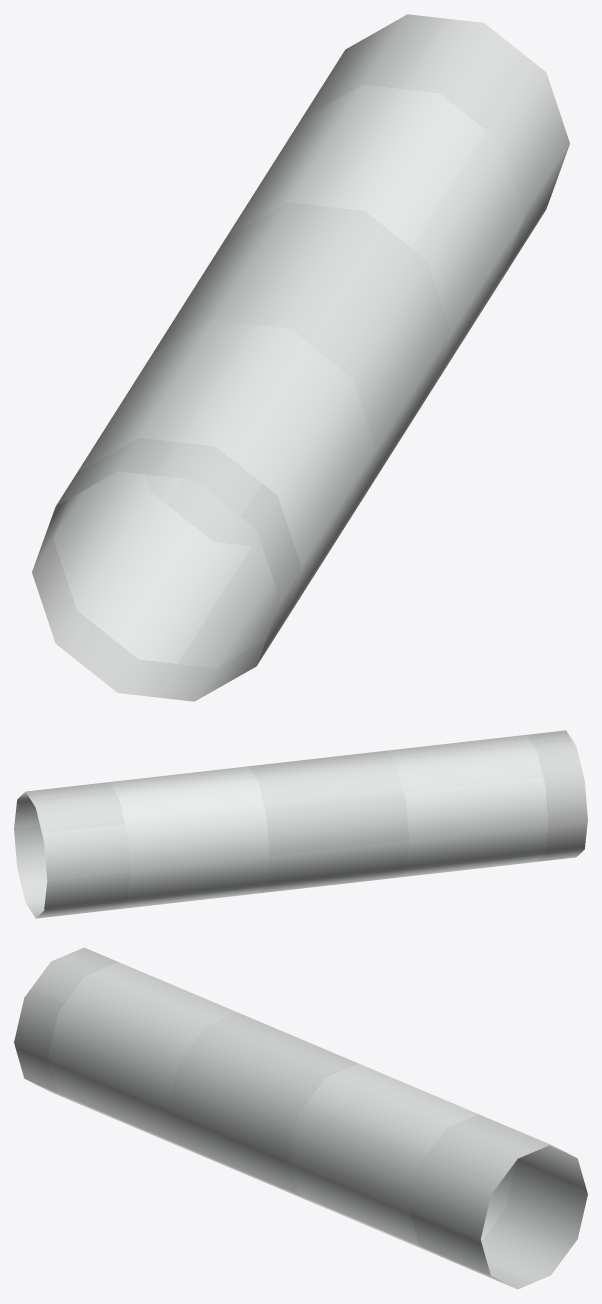
The model's file is trusssignalarm_diagonal8_c5.obj.
3 views of the same model, one above another, from view 1: azimuth 30°, elevation 25°; view 2: azimuth 150°, elevation 25°; view 3: azimuth 270°, elevation 25° (orthographic). The views are drawn at different scales.
Visible parts, largest first — view 1: trusssignalarm_diagonal8_c5; view 2: trusssignalarm_diagonal8_c5; view 3: trusssignalarm_diagonal8_c5.
Part boxes in pixels (<box>): trusssignalarm_diagonal8_c5: <box>32,14,569,701</box>; trusssignalarm_diagonal8_c5: <box>14,730,587,918</box>; trusssignalarm_diagonal8_c5: <box>14,947,587,1289</box>.
Size of the model in its own units: 1.23 by 0.3091 by 1.23.
